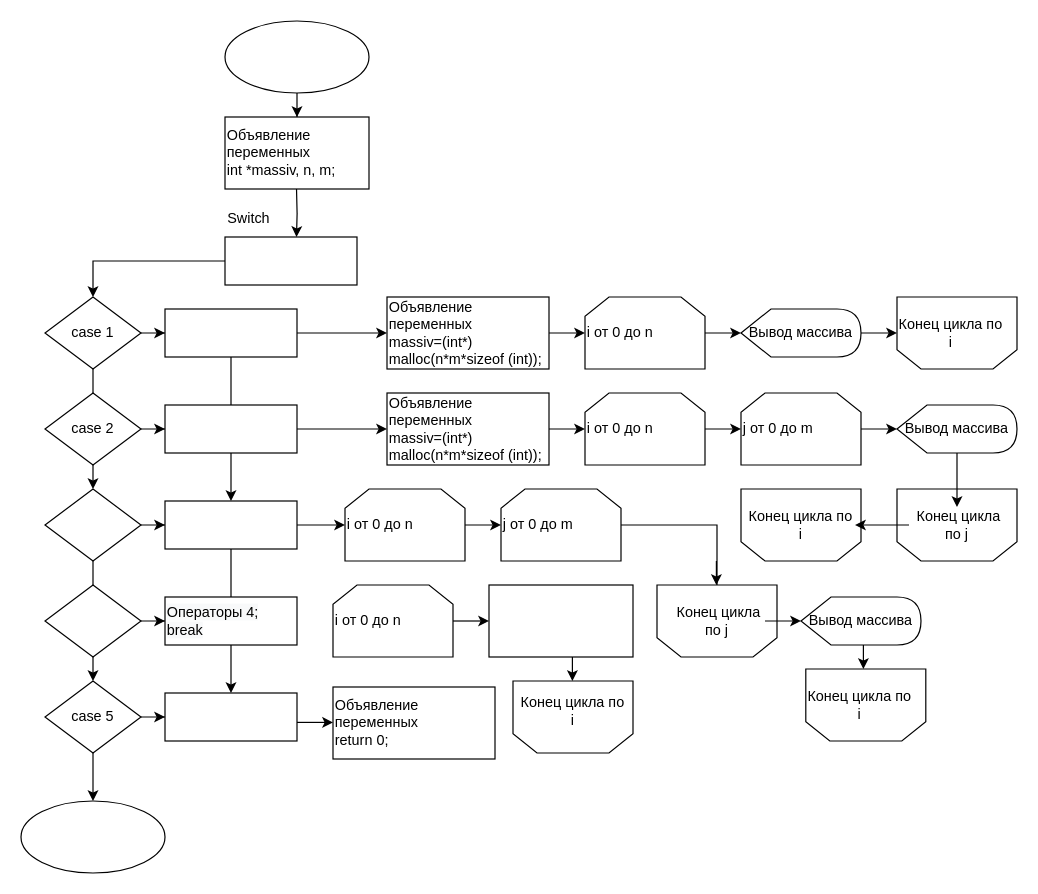
Some shapes in this 1038 by 894 pixel diagram are drawn without their labels. Here are the shapes that lost their labels. From the top down, the centre of each, then its label:
At point 296,56: "Начало".
At point 290,260: "Выражение".
At point 230,332: "Операторы 1; break".
At point 230,428: "Операторы 2; break".
At point 92,524: "case 3".
At point 230,524: "Операторы 3; break".
At point 92,620: "case 4".
At point 560,620: "Объявление переменных sum += *a;".
At point 230,716: "Операторы 5; break".
At point 92,836: "Конец".
